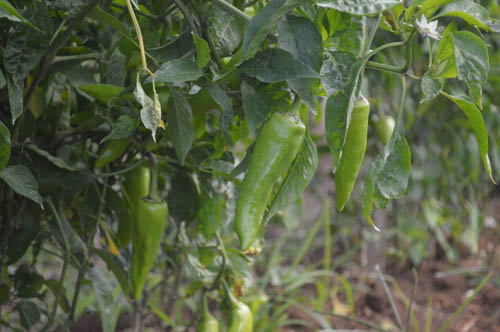ChiliPepper: (233, 114, 302, 250), (330, 100, 370, 221), (131, 198, 172, 294), (114, 166, 147, 244)
